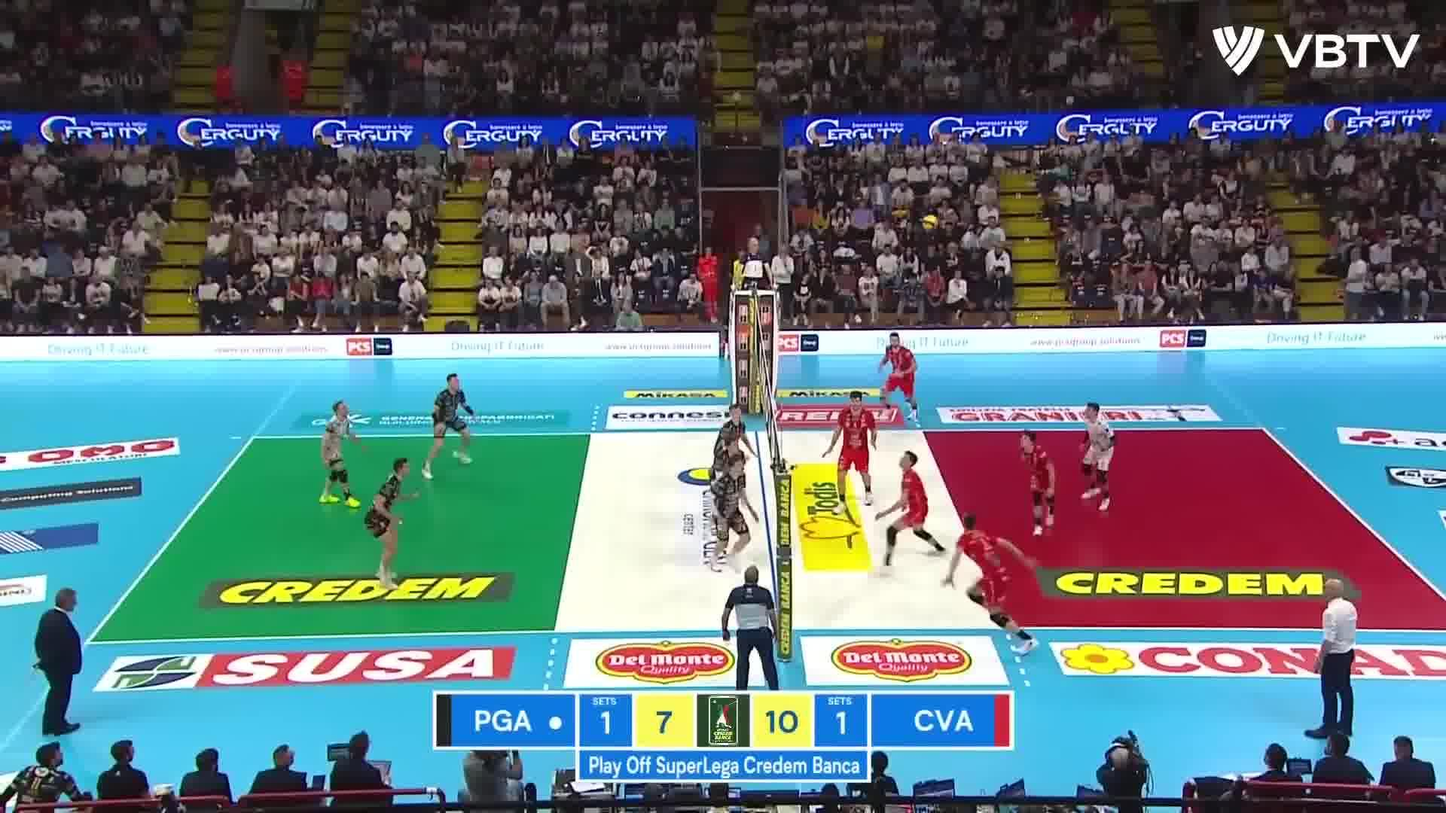balls: (920, 213, 941, 233)
